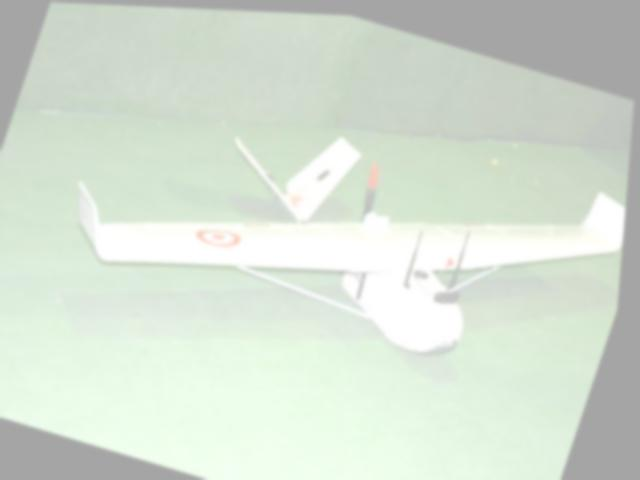iha: (27, 35, 638, 414)
